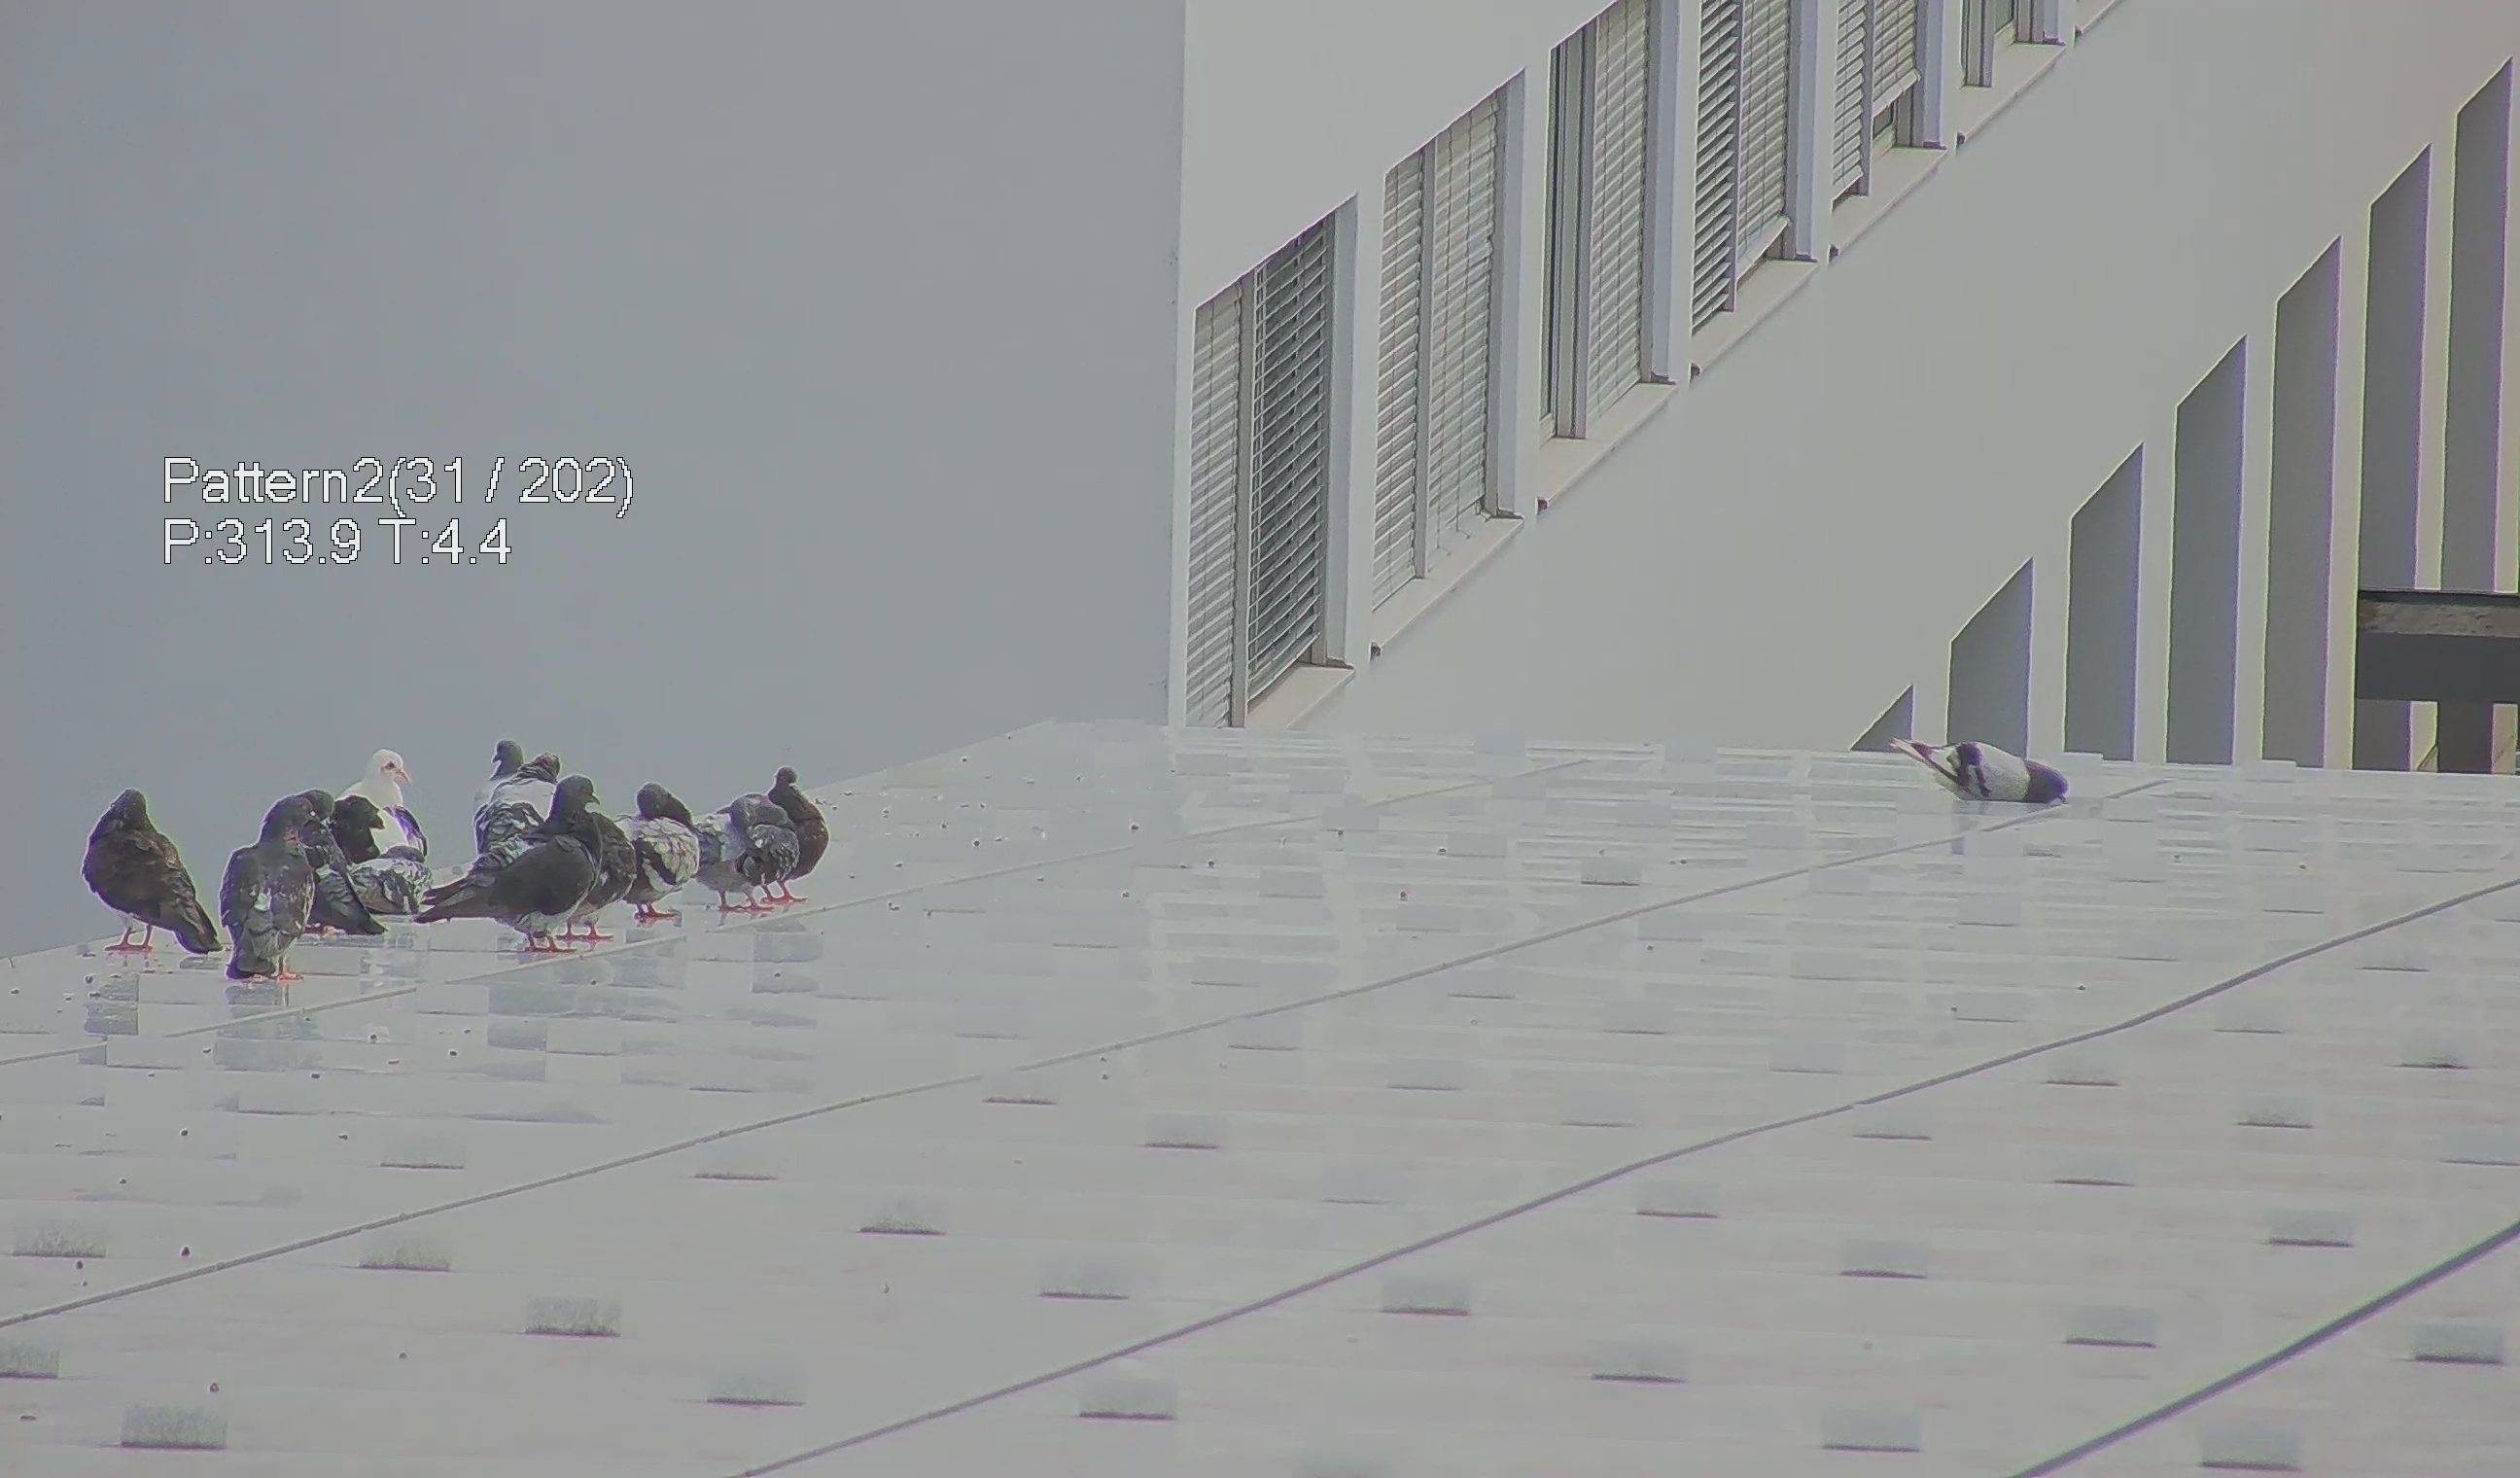Pigeon: (413, 779, 601, 971), (72, 776, 225, 969), (672, 765, 812, 920), (216, 788, 325, 987), (1903, 713, 2087, 816), (615, 771, 705, 934), (466, 737, 566, 862), (774, 750, 863, 874), (332, 728, 434, 804)
